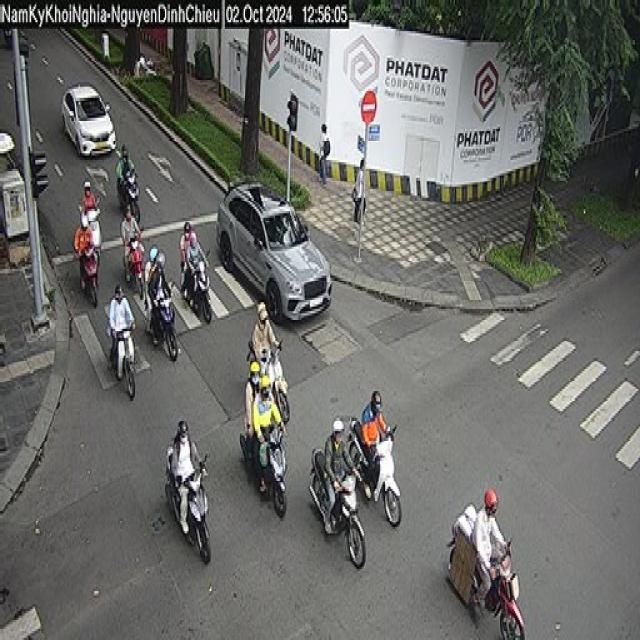car: (215, 176, 333, 322), (60, 82, 116, 158)
motorcycle: (446, 518, 525, 638), (308, 447, 367, 569), (159, 457, 218, 564), (345, 416, 401, 526), (243, 334, 292, 415), (240, 417, 288, 495), (145, 280, 179, 360), (106, 320, 136, 400), (181, 247, 211, 322), (70, 240, 104, 300), (121, 229, 145, 298), (116, 169, 140, 224), (82, 210, 104, 253)
person: (471, 487, 511, 611), (322, 415, 362, 529), (168, 418, 206, 533), (251, 374, 285, 494), (239, 345, 266, 448), (106, 282, 135, 373), (247, 288, 280, 362), (187, 224, 216, 294), (360, 382, 387, 454), (72, 211, 96, 289), (74, 168, 104, 225), (120, 202, 141, 280), (141, 240, 164, 308), (152, 249, 172, 312), (116, 140, 139, 183), (180, 219, 198, 273), (352, 158, 367, 222), (318, 122, 330, 184)
